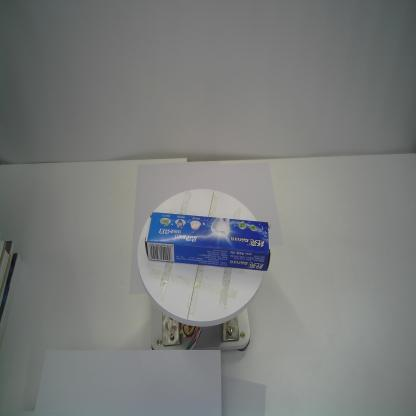Personal Hygiene: (144, 210, 272, 273)
